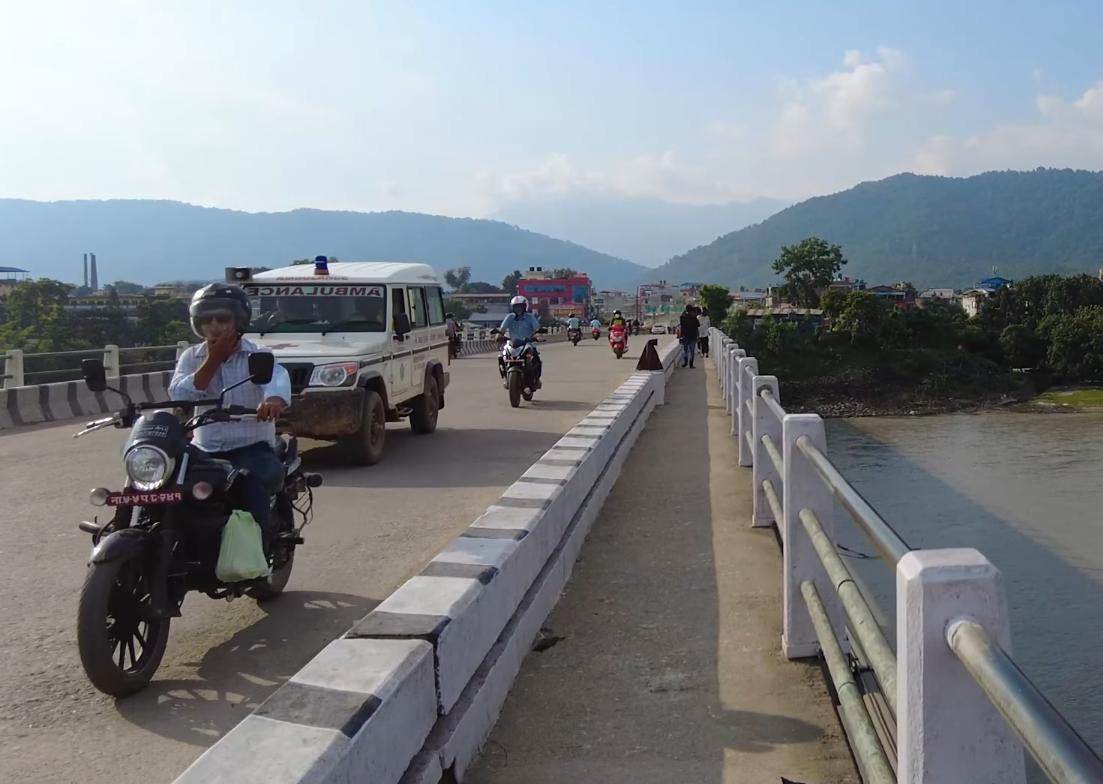ambulance: (227, 243, 460, 459)
bike: (53, 356, 329, 700), (486, 323, 550, 413)
scooter: (606, 320, 634, 361)
